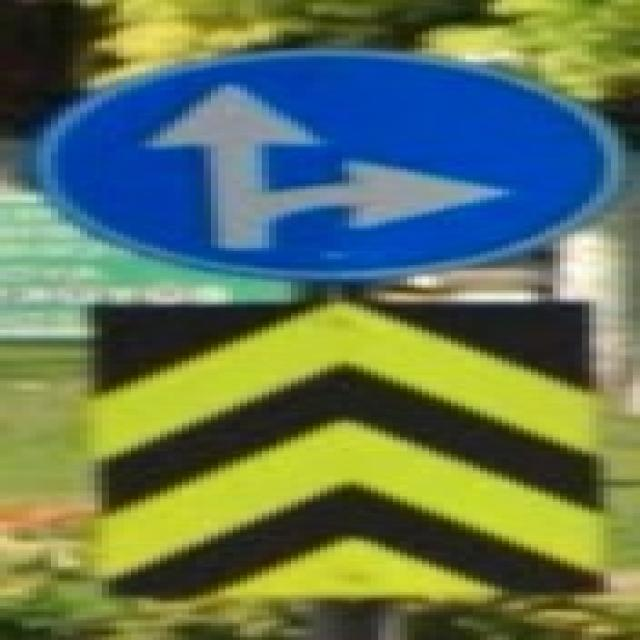Straight or Right: (56, 52, 601, 274)
